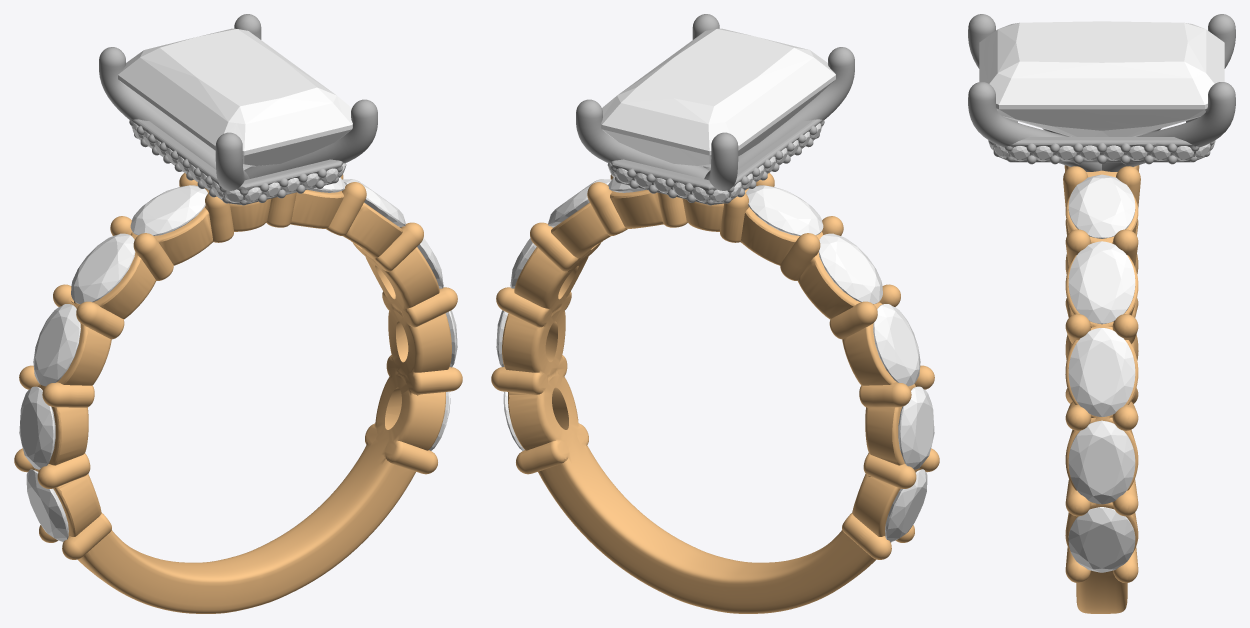
The picture shows the model from 3 angles, left to right: view 1: azimuth 30°, elevation 25°; view 2: azimuth 150°, elevation 25°; view 3: azimuth 270°, elevation 25°; orthographic projection. The views are drawn at different scales.
Bounding box in the file's own units: 2.41 × 2.92 × 1.29.
